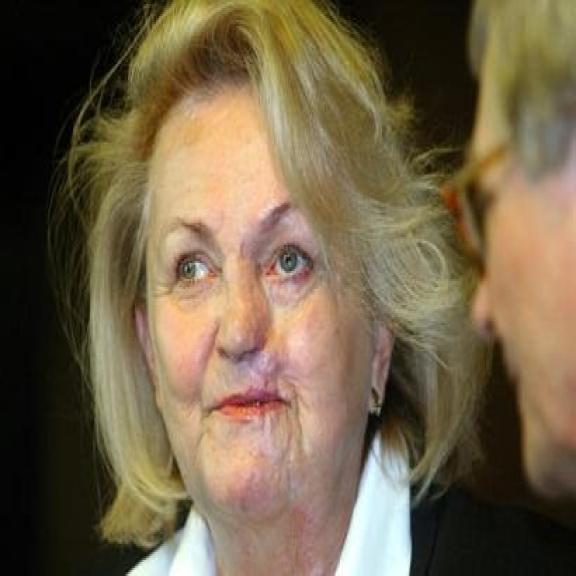face: (132, 84, 402, 528), (470, 64, 576, 513)
